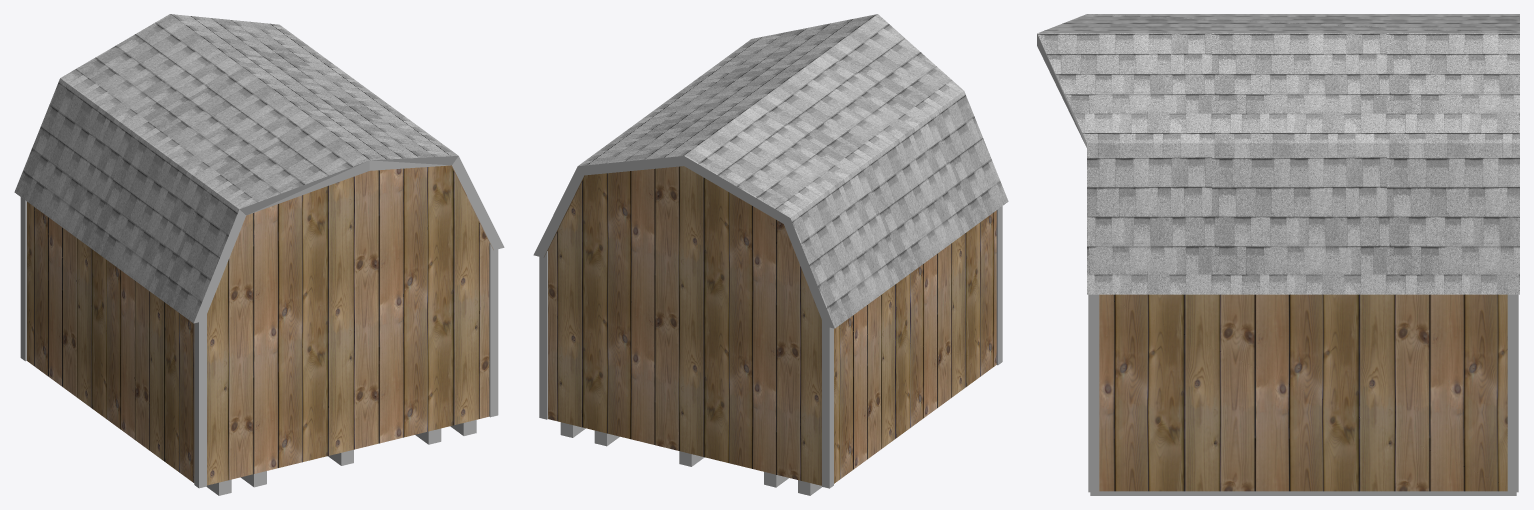
File: Mini Barn Sheds_8x8.obj
3 views of the same model, side by side, from view 1: azimuth 30°, elevation 25°; view 2: azimuth 150°, elevation 25°; view 3: azimuth 270°, elevation 25° (orthographic). The views are drawn at different scales.
Visible parts, largest first — view 1: Shed, Roof, Trim, Sides, Floor; view 2: Shed, Roof, Trim, Sides, Floor; view 3: Roof, Shed, Trim, Floor, Sides.
Boxes of the visible parts, x1,y1,x2,y2 form: Shed: [27, 165, 493, 485]; Roof: [14, 14, 458, 323]; Trim: [20, 197, 498, 488]; Sides: [193, 156, 504, 323]; Floor: [206, 420, 476, 495]; Shed: [544, 166, 996, 485]; Roof: [578, 14, 1008, 328]; Trim: [539, 206, 1002, 488]; Sides: [533, 156, 834, 328]; Floor: [560, 422, 821, 495]; Roof: [1037, 14, 1519, 294]; Shed: [1099, 294, 1507, 491]; Trim: [1088, 294, 1518, 492]; Floor: [1090, 491, 1516, 495]; Sides: [1037, 33, 1086, 147].
Bounding box in the file's own units: 2.48 × 2.44 × 2.76.
